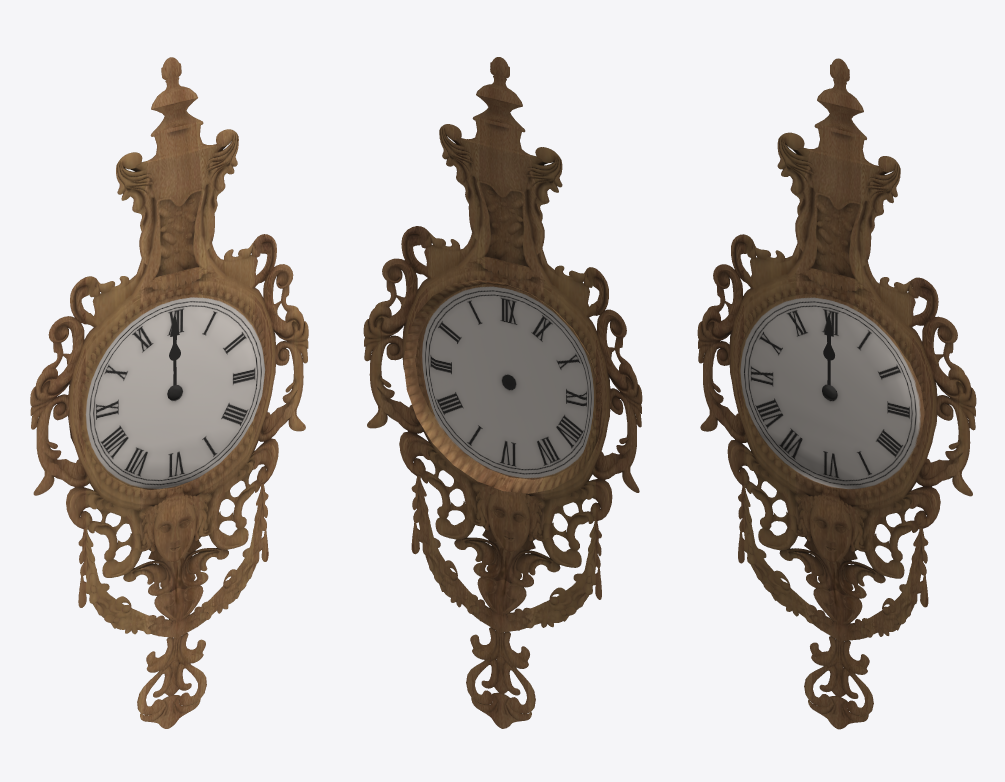
The model's file is wanduhr_01.fbx.
The picture shows the model from 3 angles, left to right: view 1: azimuth 30°, elevation 25°; view 2: azimuth 150°, elevation 25°; view 3: azimuth 330°, elevation 25°; orthographic projection.
Parts seen in each view (by area): view 1: wanduhr_01; view 2: wanduhr_01; view 3: wanduhr_01.
Part boxes in pixels (<box>): wanduhr_01: <box>30,57,308,728</box>; wanduhr_01: <box>363,57,642,728</box>; wanduhr_01: <box>697,58,976,729</box>.
Bounding box in the file's own units: 43.49 × 92.07 × 2.26.
